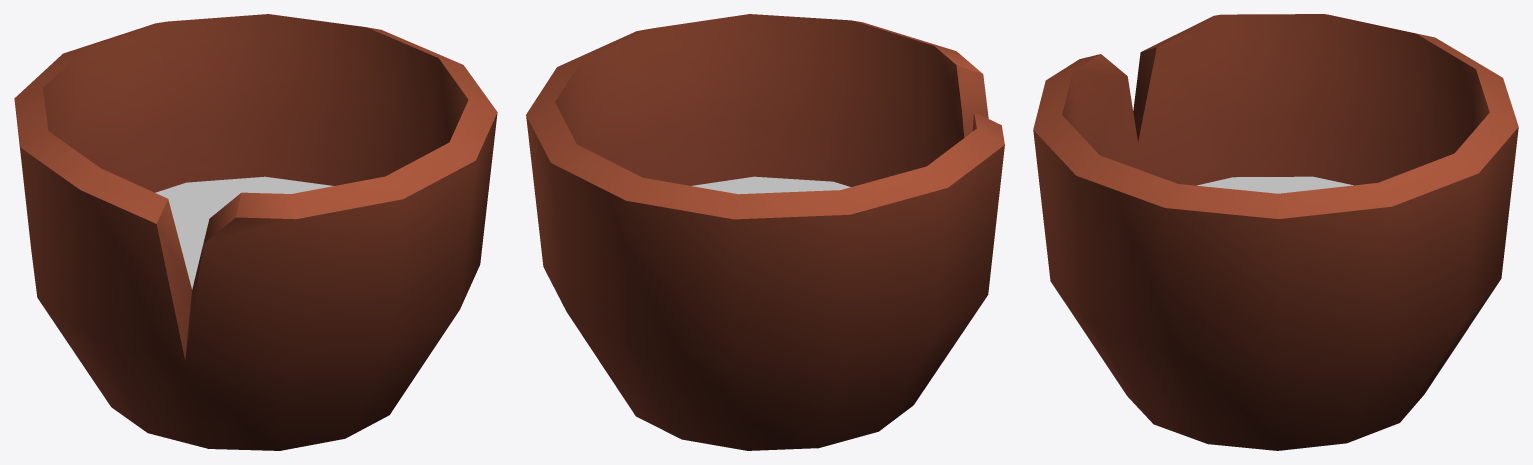
File: Clay_Dish_2C.fbx
3 renders of one model, left to right at view 1: azimuth 30°, elevation 25°; view 2: azimuth 150°, elevation 25°; view 3: azimuth 270°, elevation 25°, orthographic.
Parts seen in each view (by area): view 1: Clay_Dish_2C; view 2: Clay_Dish_2C; view 3: Clay_Dish_2C.
Boxes of the visible parts, x1=… form: Clay_Dish_2C: x1=14, y1=14, x2=497, y2=450; Clay_Dish_2C: x1=526, y1=14, x2=1004, y2=450; Clay_Dish_2C: x1=1033, y1=14, x2=1518, y2=450.
Size of the model in its own units: 0.8124 by 0.5292 by 0.817.
